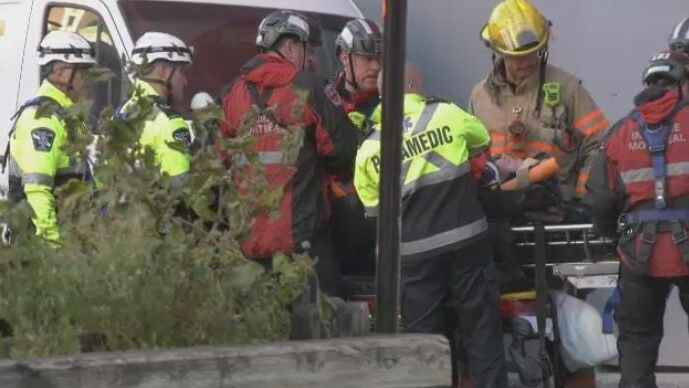hard hat: (480, 1, 552, 57), (254, 11, 322, 49), (128, 31, 193, 67), (38, 28, 94, 68), (334, 17, 383, 55), (642, 48, 689, 82), (669, 15, 689, 48)
high-vis: (363, 95, 496, 243), (8, 79, 85, 246), (114, 83, 190, 203)
